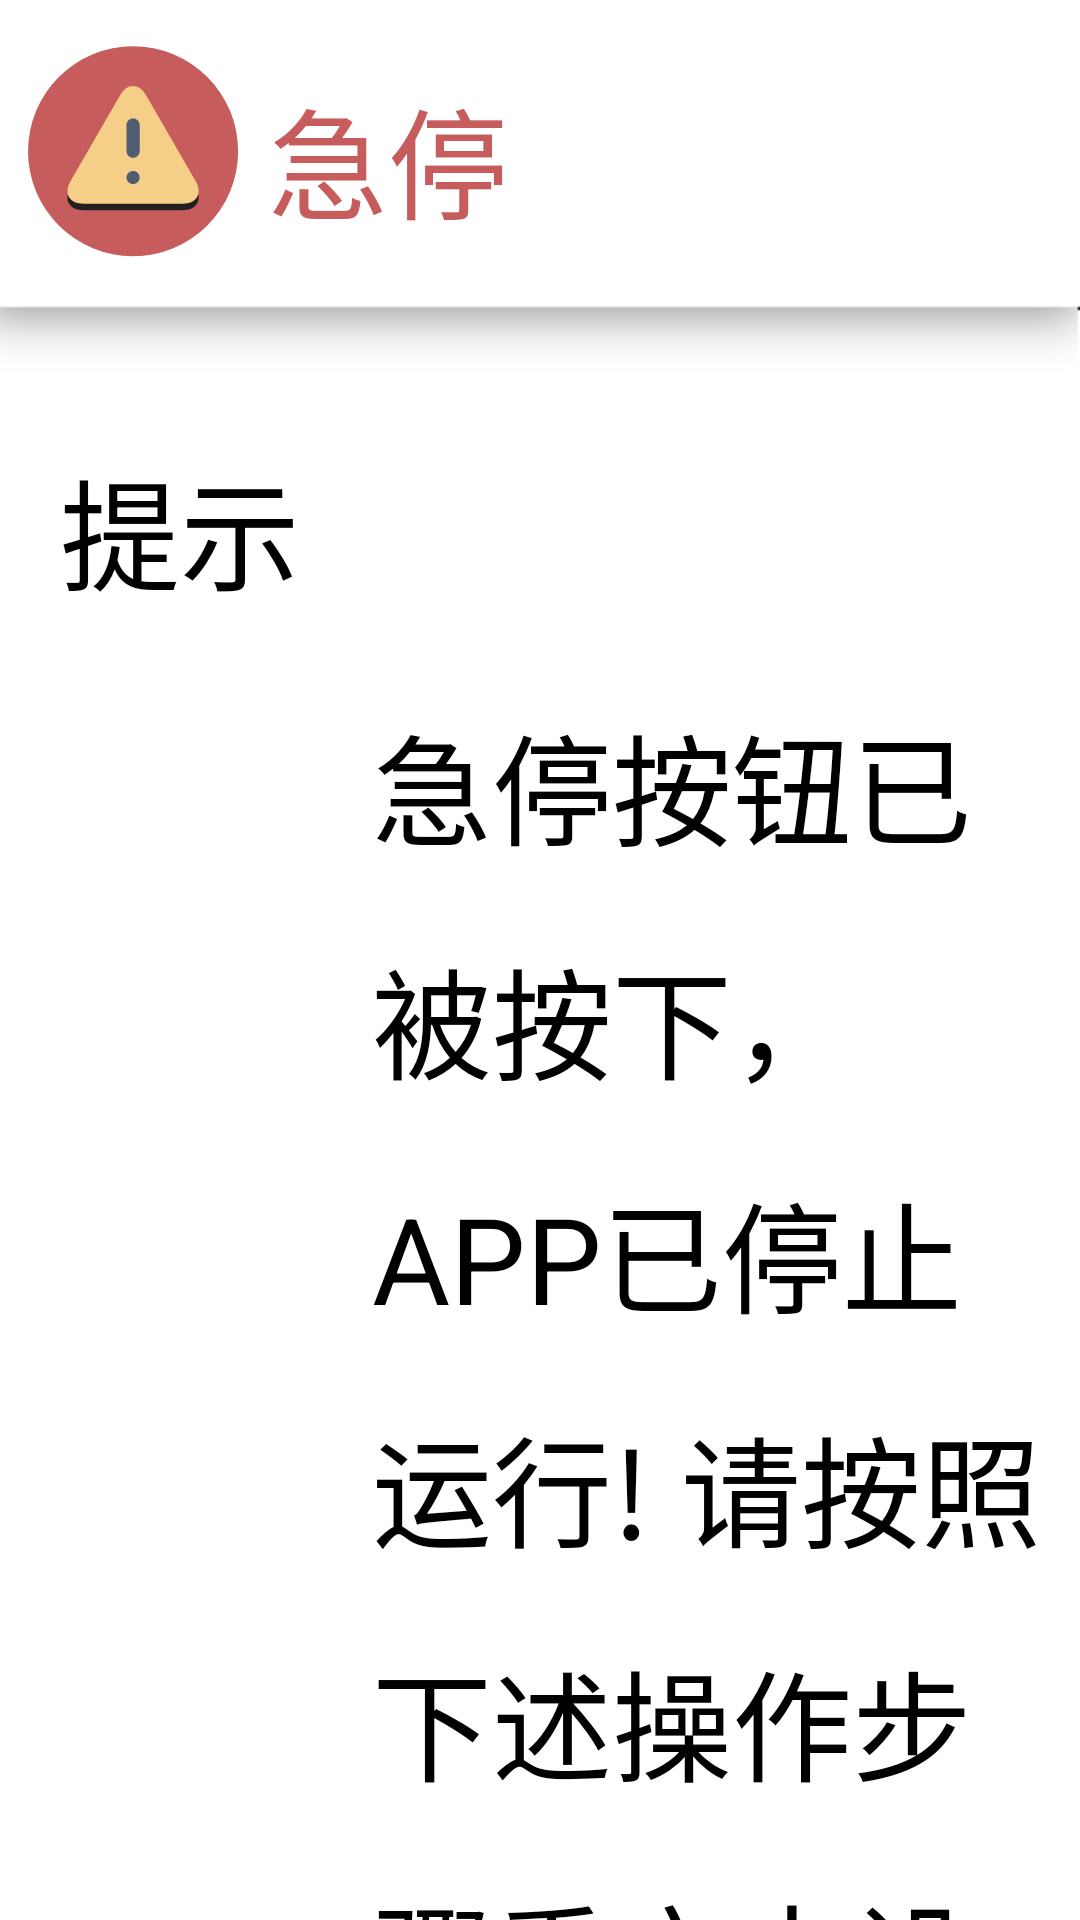

Screen size 1080*1920. Icon name, then its center in pixels as (x=x, y=y):
warning: (x=133, y=151)
